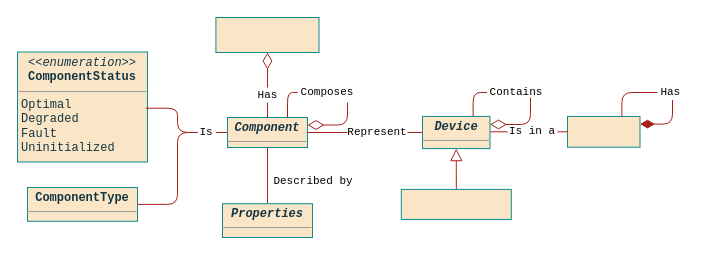
The diagram is 704 pixels wide and 255 high, and some of its shapes have lost their labels. The shapes that lost their labels are listed below. From the top down, each one's box as (x1, y1, x2, y2) in pixels, then its label:
(215, 16, 319, 52): Application
(566, 115, 640, 147): Location
(400, 188, 511, 219): Gateway
